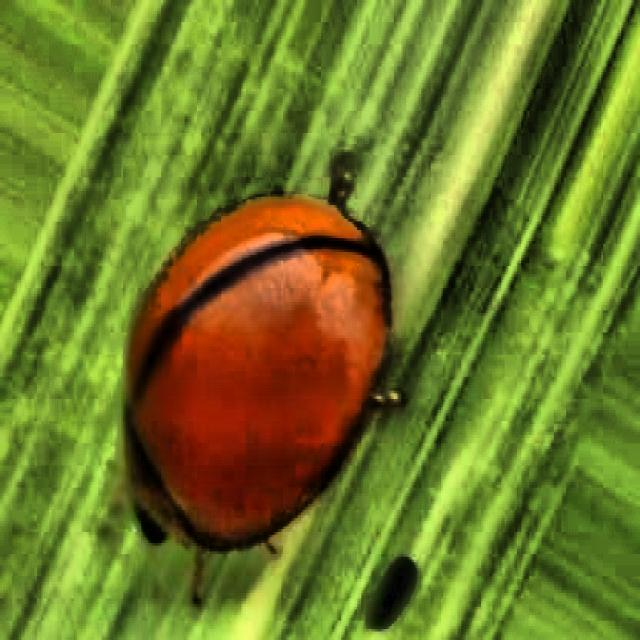Ladybug: (105, 117, 426, 578)
